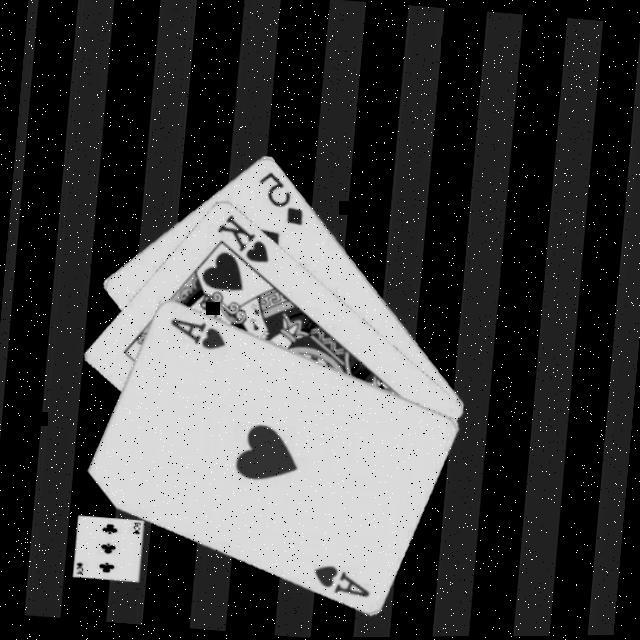5D: (249, 167, 309, 230)
AH: (306, 560, 372, 601), (162, 314, 228, 354)
KH: (208, 210, 273, 267)
